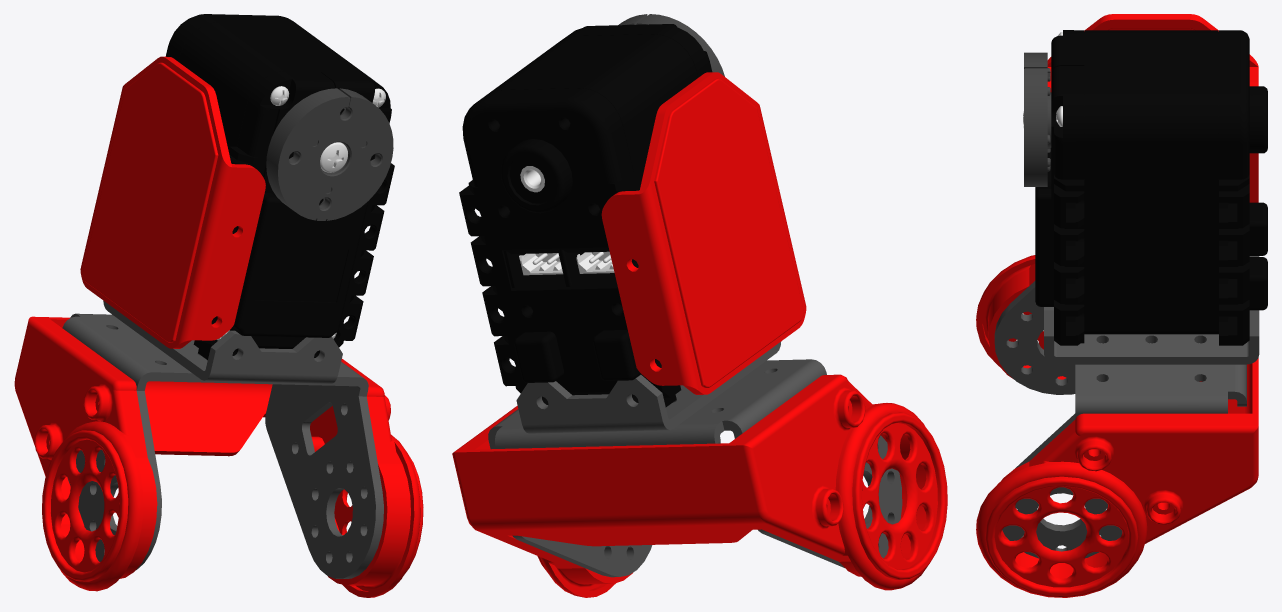
Rendered from bicep-right.obj.
3 views of the same model, side by side, from view 1: azimuth 30°, elevation 25°; view 2: azimuth 150°, elevation 25°; view 3: azimuth 270°, elevation 25° (orthographic). The views are drawn at different scales.
Visible parts, largest first — view 1: Solid1, ASSY_DUMMY___, DC04_B01_HORN2_DUMMY, BHS_M2_6X8, DX124_SCREW_COVER___; view 2: Solid1, ASSY_DUMMY___, 099990987____, DC04_B01_HORN2_DUMMY; view 3: ASSY_DUMMY___, Solid1, DC04_B01_HORN2_DUMMY.
Part boxes in pixels (<box>): Solid1: <box>14,56,423,597</box>; ASSY_DUMMY___: <box>165,14,394,360</box>; DC04_B01_HORN2_DUMMY: <box>266,88,393,220</box>; BHS_M2_6X8: <box>320,142,347,172</box>; DX124_SCREW_COVER___: <box>216,86,385,340</box>; Solid1: <box>452,72,947,597</box>; ASSY_DUMMY___: <box>459,24,712,407</box>; 099990987____: <box>519,251,614,275</box>; DC04_B01_HORN2_DUMMY: <box>618,14,724,76</box>; ASSY_DUMMY___: <box>1035,30,1267,345</box>; Solid1: <box>976,14,1259,597</box>; DC04_B01_HORN2_DUMMY: <box>1024,52,1051,186</box>.
Size of the model in its own units: 2.52 by 3.77 by 1.88.
